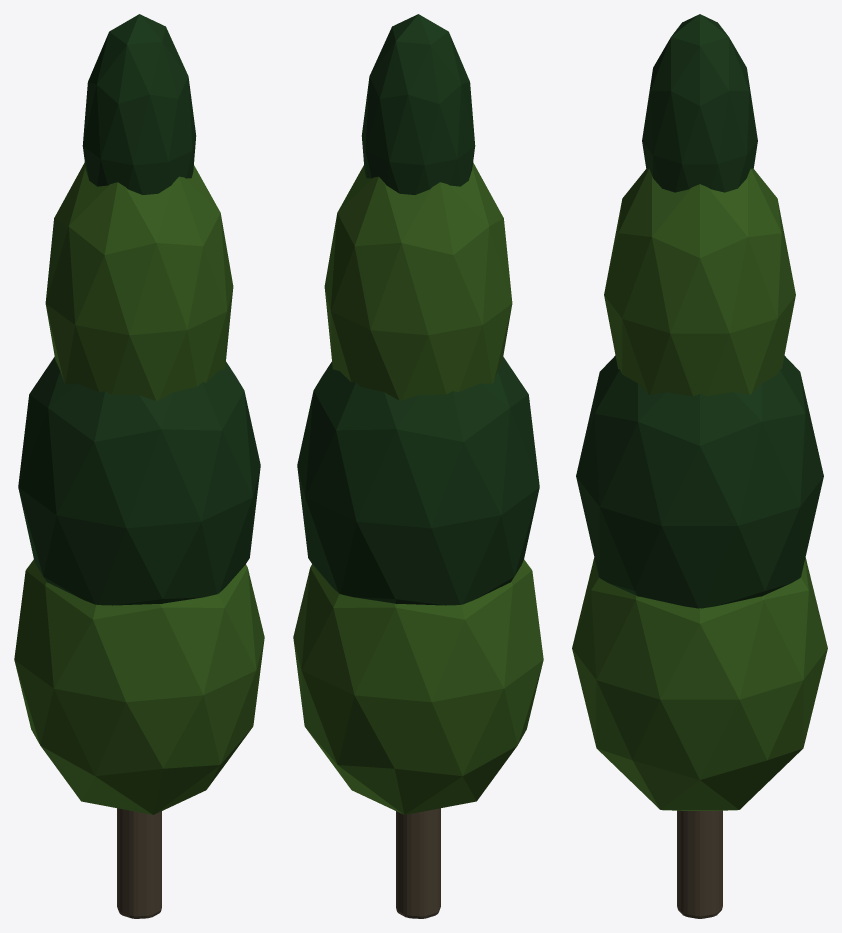
The model's file is courtyard_course_cypress.glb.
3 views of the same model, side by side, from view 1: azimuth 30°, elevation 25°; view 2: azimuth 150°, elevation 25°; view 3: azimuth 270°, elevation 25° (orthographic).
Parts seen in each view (by area): view 1: courtyard_course_cypress; view 2: courtyard_course_cypress; view 3: courtyard_course_cypress.
Boxes of the visible parts, x1,y1,x2,y2 form: courtyard_course_cypress: [14, 14, 264, 918]; courtyard_course_cypress: [293, 14, 543, 918]; courtyard_course_cypress: [572, 14, 827, 918].
Bounding box in the file's own units: 1.22 × 4.95 × 1.28.
